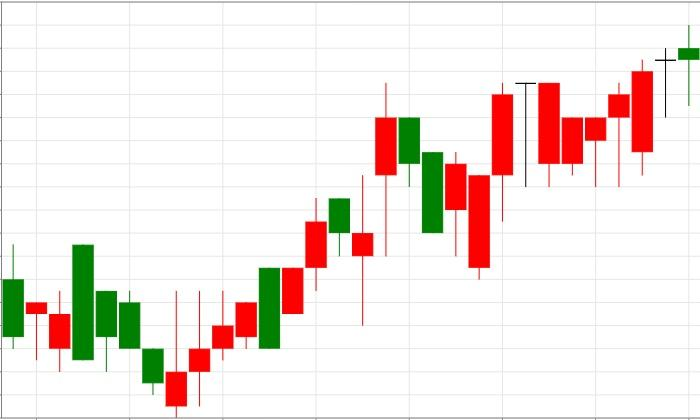bearish_engulfing_fall: (164, 268, 281, 416)
three_white_soldiers_rise: (73, 244, 234, 417)
